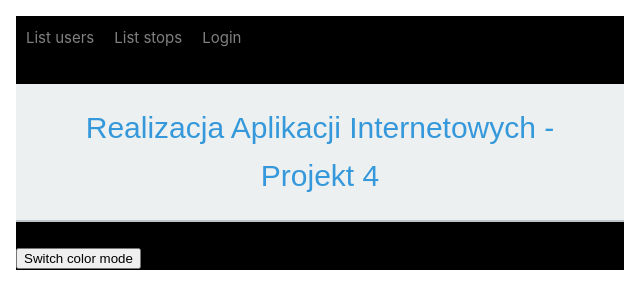
Scenario: Switch between LightMode and DarkMode › should switch between LightMode and DarkMode
The width and height of the screenshot is (641, 287).
Click the button with test id "backgroundButton": click(79, 259) left=16, top=248, right=141, bottom=269
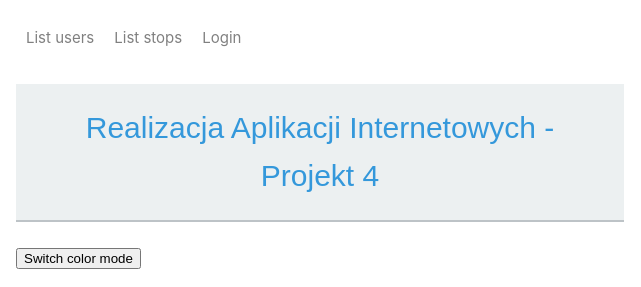
Result: the element with class "LightMode" is shown
Click the button with test id "backgroundButton": click(79, 259) left=16, top=248, right=141, bottom=269
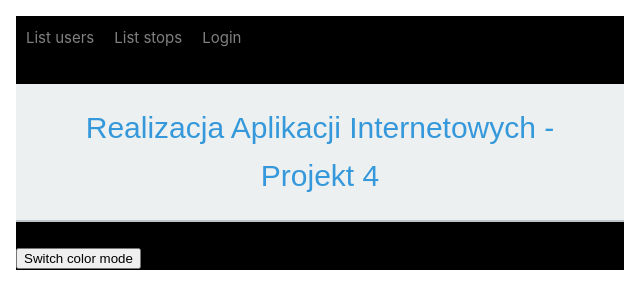
Result: the element with class "DarkMode" is shown
